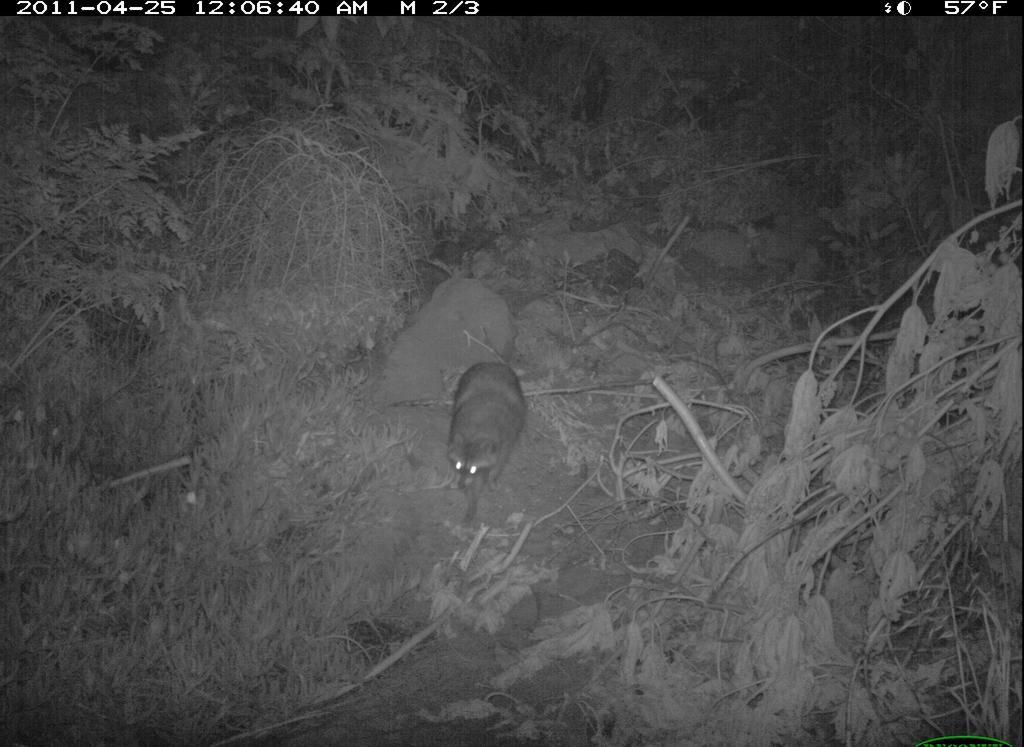raccoon: (445, 355, 534, 504)
